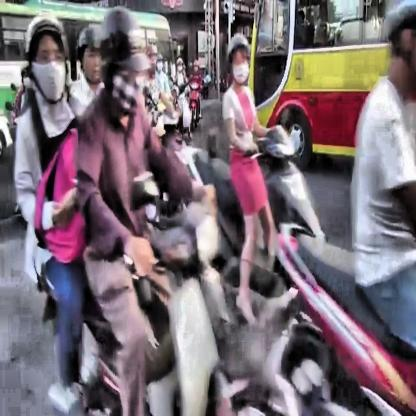wear: (103, 5, 151, 113), (23, 11, 72, 102), (225, 31, 254, 85)
